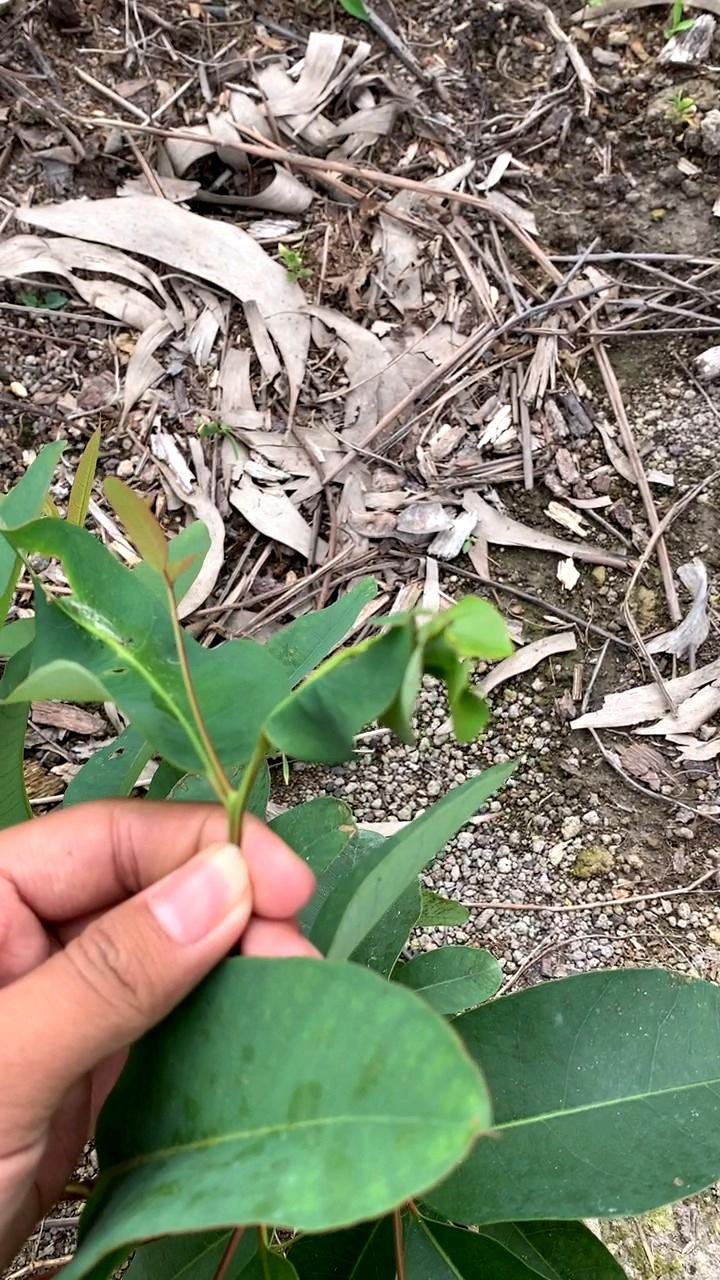Leaf Roller - Leaf: (283, 586, 540, 772)
